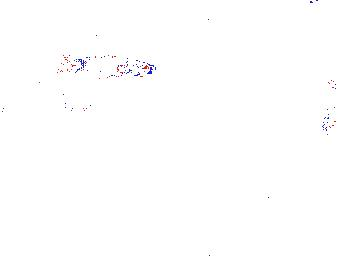redtail glassfish: (67, 54, 159, 80), (41, 80, 99, 114), (319, 73, 341, 133)
